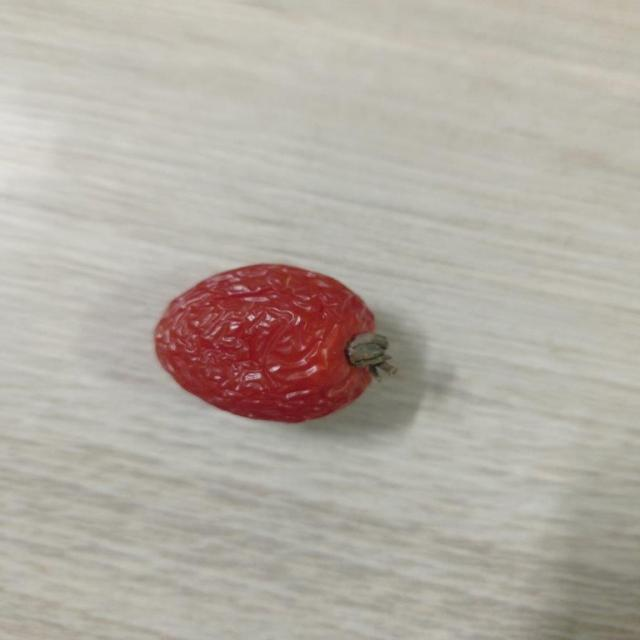overripe: (147, 258, 397, 423)
